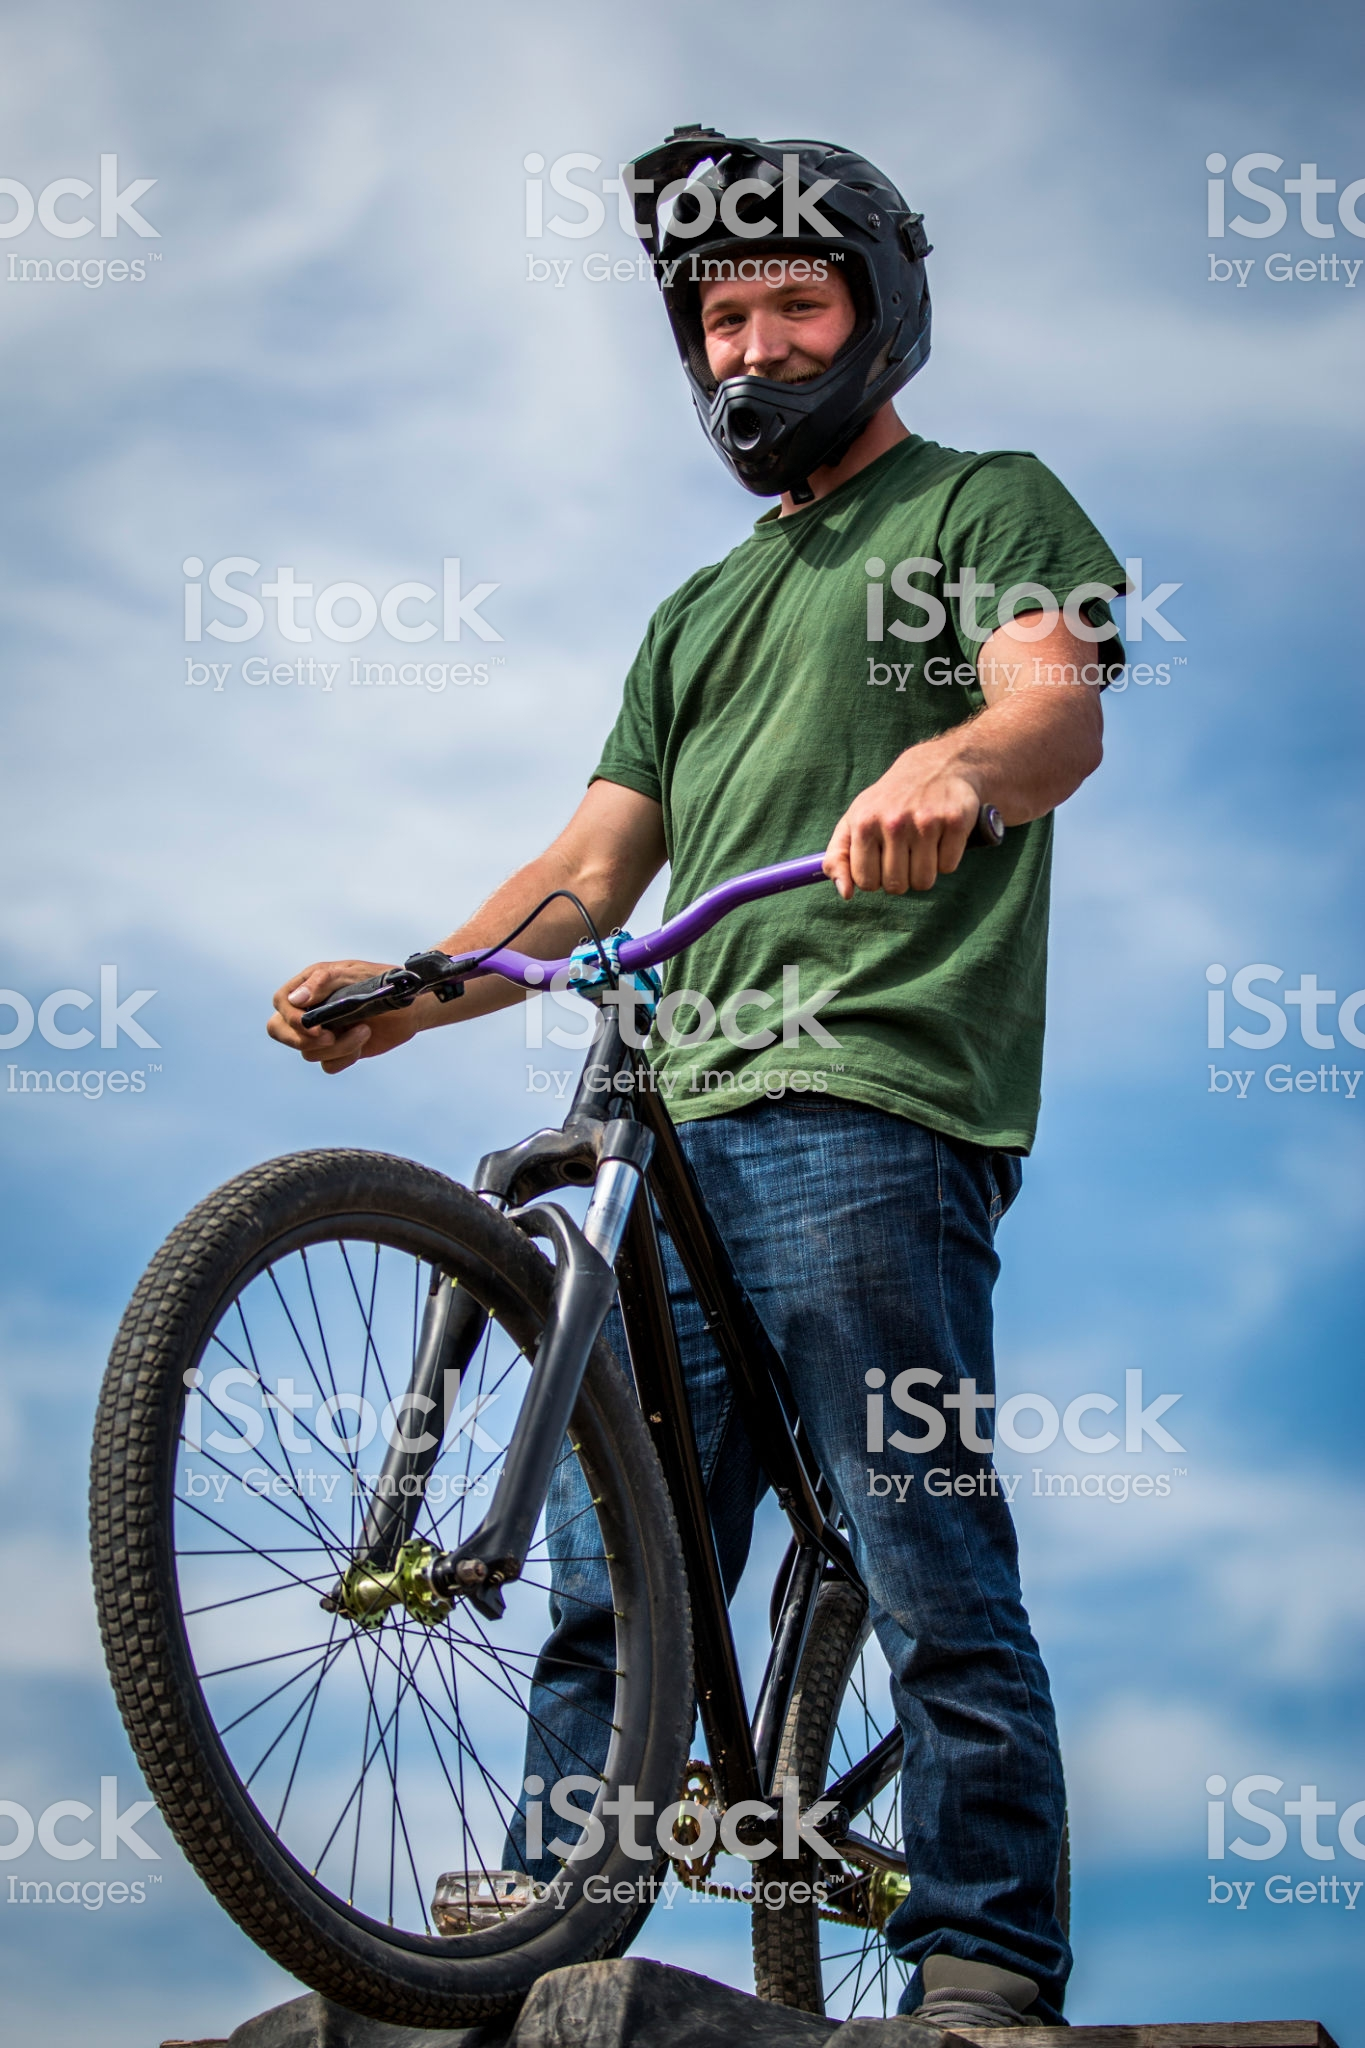helmet: (626, 85, 935, 475)
